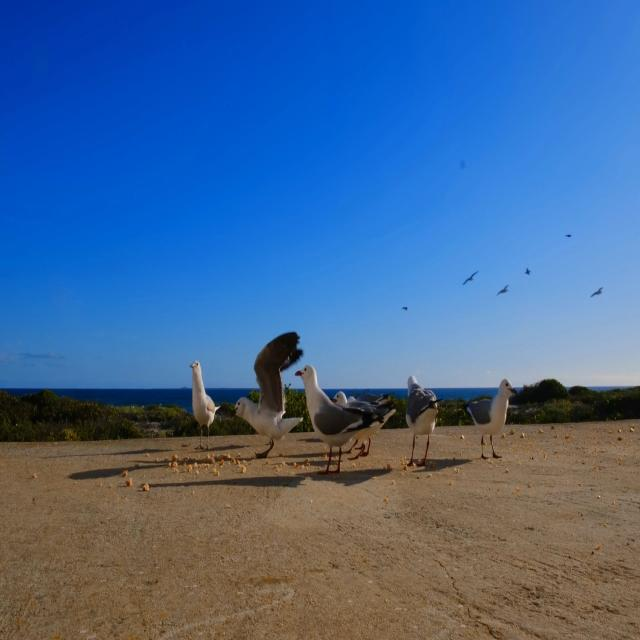bird: (225, 330, 307, 482), (294, 366, 383, 470), (456, 372, 519, 465), (402, 371, 446, 481), (180, 353, 224, 453), (460, 267, 480, 290), (494, 281, 509, 299), (589, 284, 604, 301), (524, 265, 531, 278), (400, 304, 409, 314), (564, 232, 574, 240)
